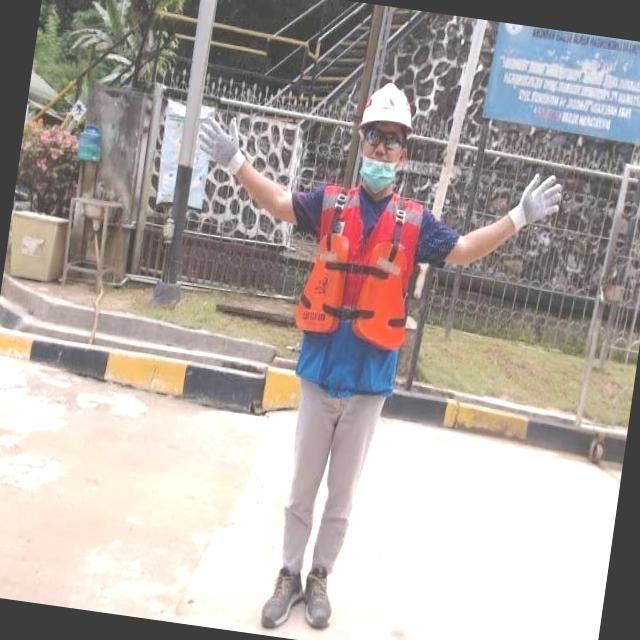gloves: (188, 106, 264, 182), (505, 159, 569, 243)
helmet: (357, 80, 418, 139)
no-boots: (256, 566, 310, 636), (300, 561, 338, 632)
vest: (282, 180, 428, 399)
